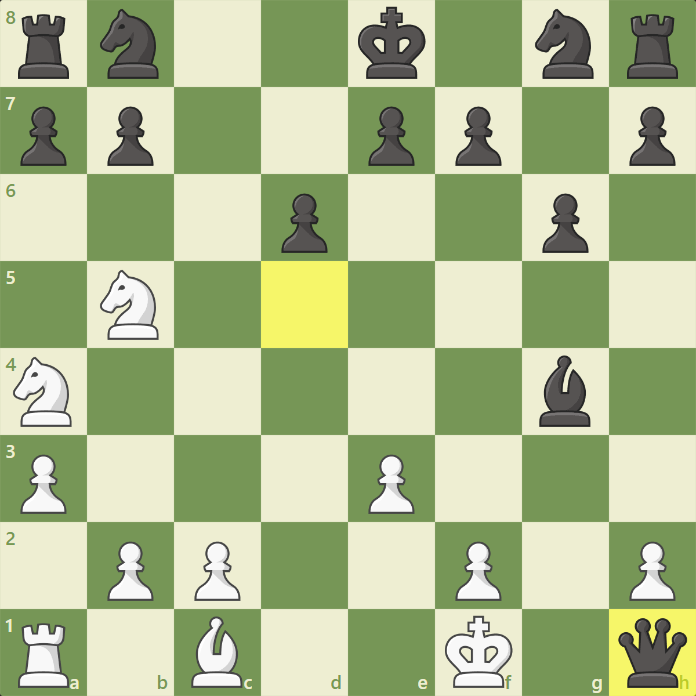B: (189, 614, 244, 690)
K: (443, 613, 516, 691)
N: (10, 355, 76, 431), (98, 268, 162, 343)
P: (19, 452, 69, 517), (105, 538, 155, 603), (192, 538, 242, 603), (366, 451, 416, 516), (453, 538, 503, 603), (628, 538, 678, 603)
R: (15, 621, 73, 691)
b: (537, 353, 592, 430)
k: (355, 4, 429, 82)
n: (532, 6, 596, 81), (98, 7, 162, 81)
p: (17, 104, 68, 169), (103, 104, 154, 169), (278, 191, 329, 256), (366, 104, 417, 169), (453, 104, 504, 169), (538, 190, 589, 255), (626, 104, 677, 169)
q: (616, 616, 690, 691)
r: (14, 12, 73, 82), (624, 12, 681, 81)
